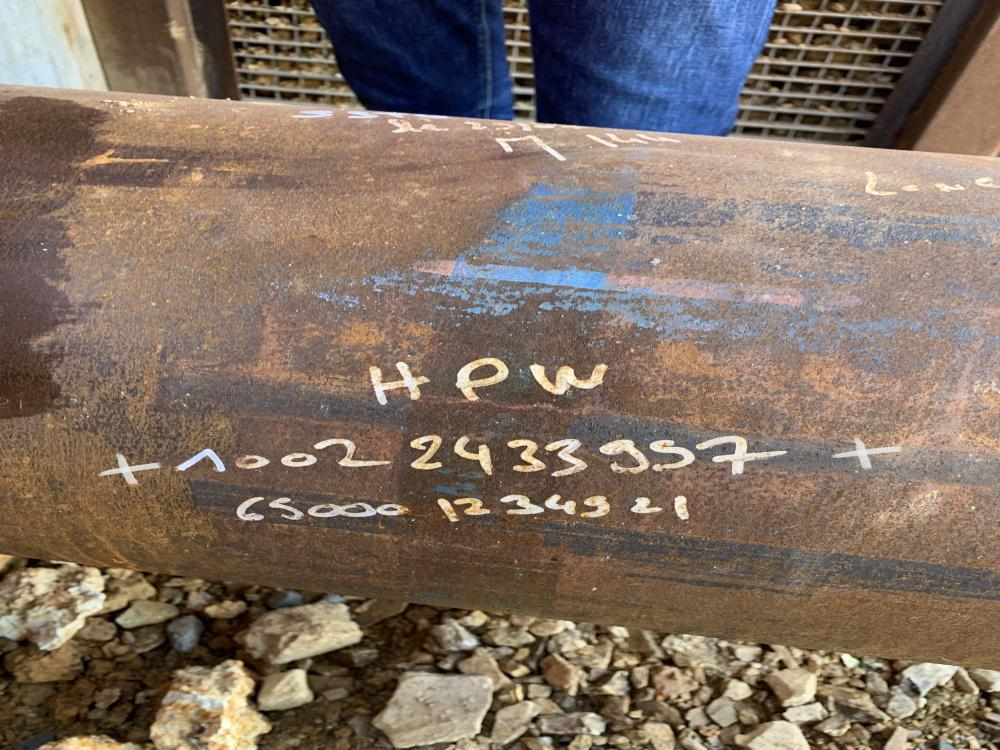+: (834, 434, 901, 471), (99, 451, 161, 486)
0: (235, 451, 275, 476), (372, 501, 414, 518), (284, 451, 318, 470), (308, 502, 342, 520), (339, 502, 375, 518)
1: (176, 446, 226, 478), (670, 493, 694, 524), (435, 496, 458, 526)
2: (315, 436, 393, 476), (408, 436, 446, 471), (458, 495, 492, 520), (628, 496, 662, 516)
3: (542, 434, 588, 482), (505, 437, 550, 478), (502, 493, 543, 522)
4: (451, 436, 498, 477), (544, 492, 579, 519)
5: (267, 498, 304, 522)
6: (236, 493, 265, 524)
7: (696, 432, 785, 480)
9: (596, 436, 648, 475), (647, 436, 695, 474), (582, 493, 611, 522)
H: (369, 360, 428, 404)
P: (457, 355, 508, 401)
W: (528, 361, 609, 397)
